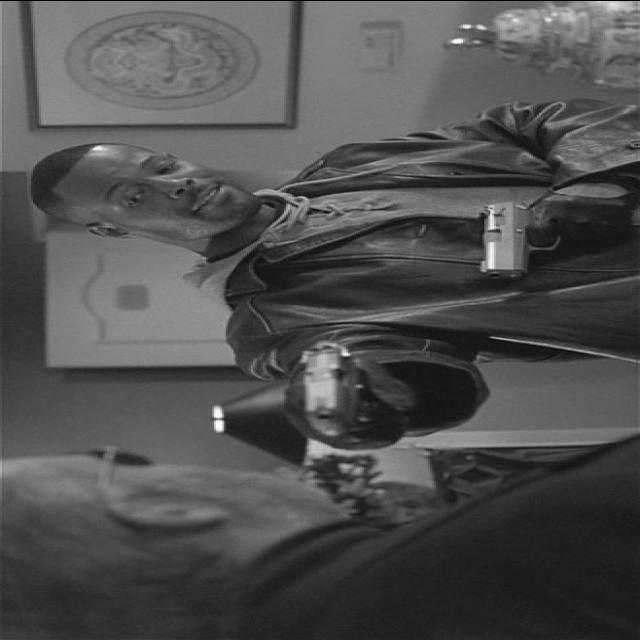weapons: (258, 340, 406, 450), (475, 183, 609, 284)
